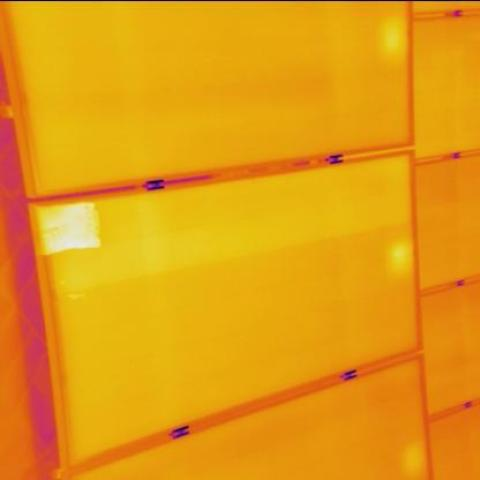fault: (37, 206, 100, 244)
